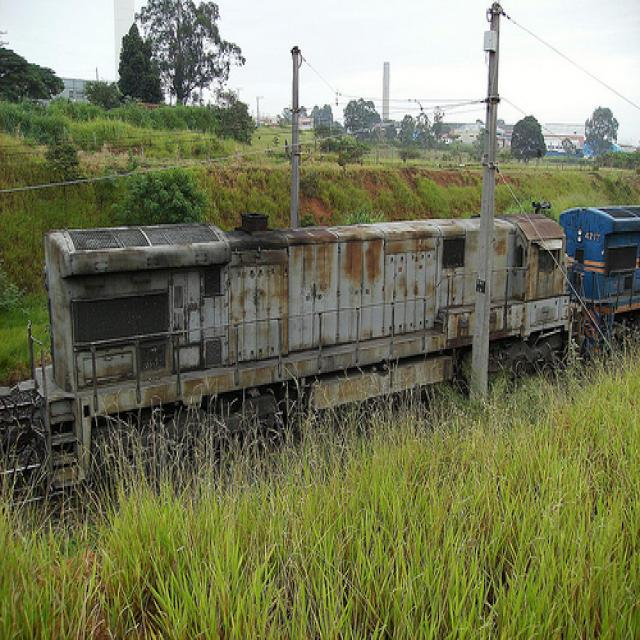locomotive: (9, 192, 578, 512), (561, 188, 640, 342)
